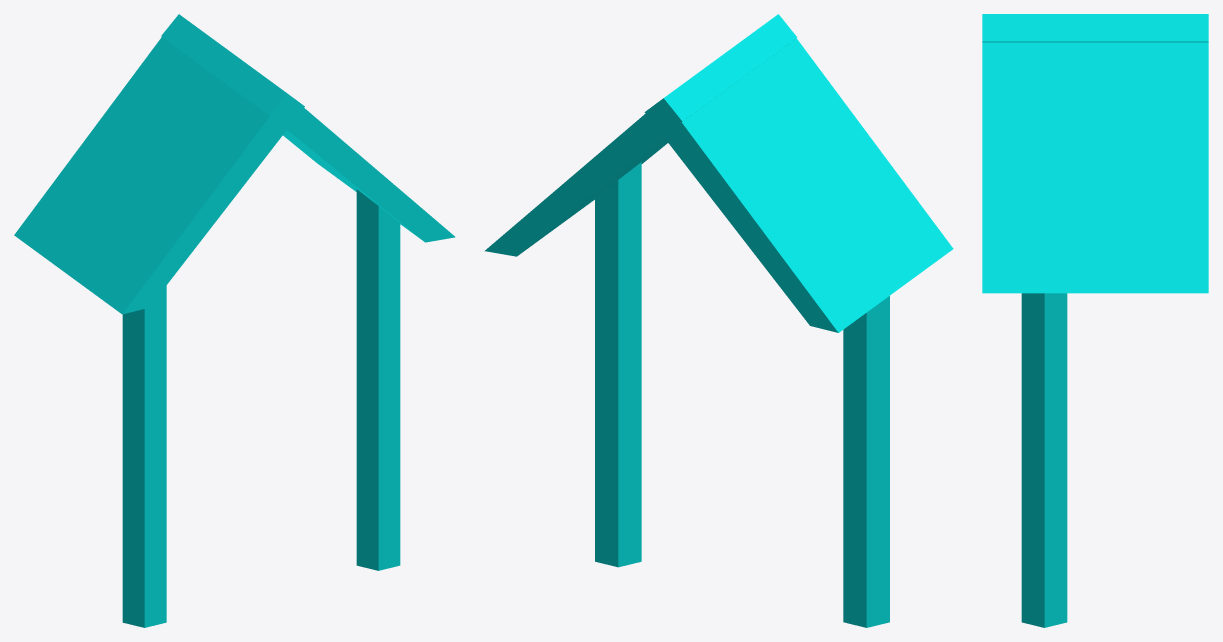
Rendered from SM_Prop_Gingerbread_House_01_Awning_01_Collision.fbx.
3 renders of one model, left to right at view 1: azimuth 30°, elevation 25°; view 2: azimuth 150°, elevation 25°; view 3: azimuth 270°, elevation 25°, orthographic. The views are drawn at different scales.
Parts seen in each view (by area): view 1: SM_Prop_Gingerbread_House_01_Awning_01_Collision; view 2: SM_Prop_Gingerbread_House_01_Awning_01_Collision; view 3: SM_Prop_Gingerbread_House_01_Awning_01_Collision.
Boxes of the visible parts, left/top/right/bottom form: SM_Prop_Gingerbread_House_01_Awning_01_Collision: left=14, top=14, right=455, bottom=627; SM_Prop_Gingerbread_House_01_Awning_01_Collision: left=485, top=14, right=953, bottom=627; SM_Prop_Gingerbread_House_01_Awning_01_Collision: left=982, top=14, right=1208, bottom=627.
Size of the model in its own units: 196 by 291 by 110.
